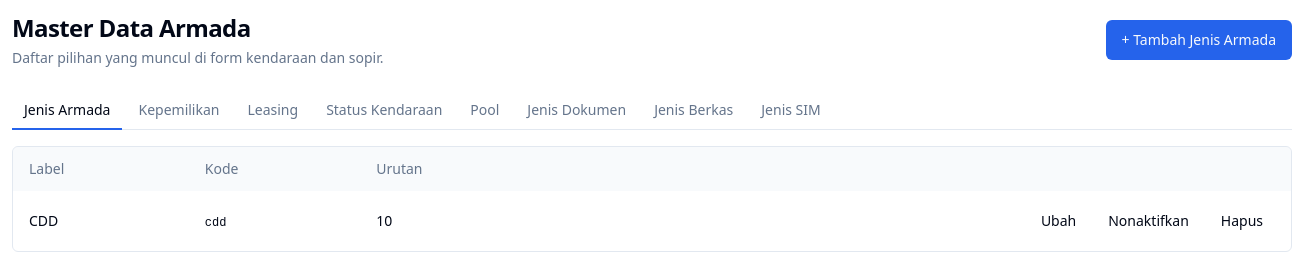
FleetMasterDataPage › shows the threshold column on Jenis SIM
Click the tab "Jenis SIM": (791, 111) [749,92,833,130]
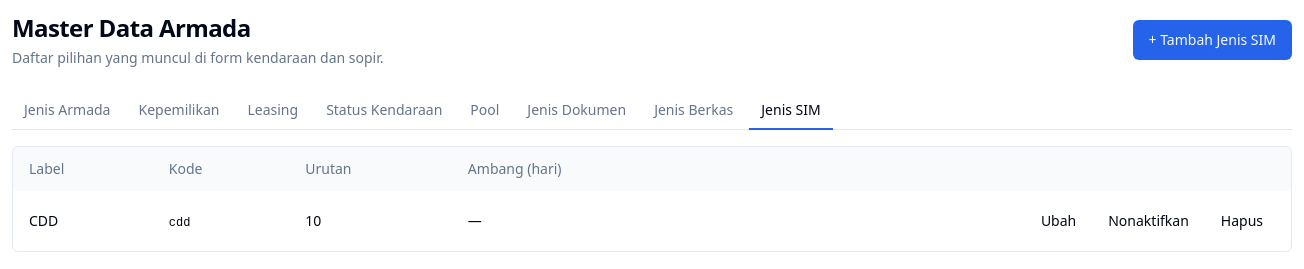
Check: the column heading "Ambang (hari)" is shown, box [452,147,713,191]
